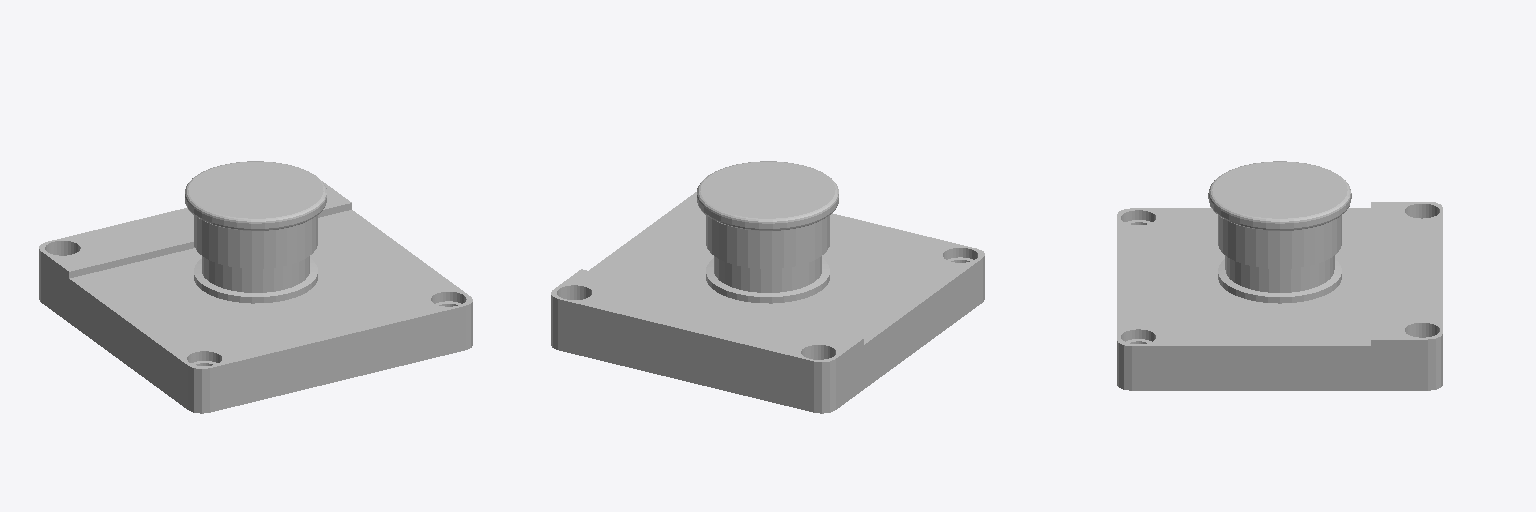
File: bouton_rouge.obj
The picture shows the model from 3 angles: view 1: azimuth 30°, elevation 25°; view 2: azimuth 150°, elevation 25°; view 3: azimuth 270°, elevation 25°; orthographic projection.
Parts seen in each view (by area): view 1: Desk_RedButton.000_Bouton_Rouge.003_Cube.001; view 2: Desk_RedButton.000_Bouton_Rouge.003_Cube.001; view 3: Desk_RedButton.000_Bouton_Rouge.003_Cube.001.
Boxes of the visible parts, x1=… form: Desk_RedButton.000_Bouton_Rouge.003_Cube.001: x1=39, y1=161, x2=472, y2=413; Desk_RedButton.000_Bouton_Rouge.003_Cube.001: x1=551, y1=161, x2=984, y2=413; Desk_RedButton.000_Bouton_Rouge.003_Cube.001: x1=1117, y1=161, x2=1442, y2=390.
Size of the model in its own units: 0.9778 by 0.4347 by 0.9778.